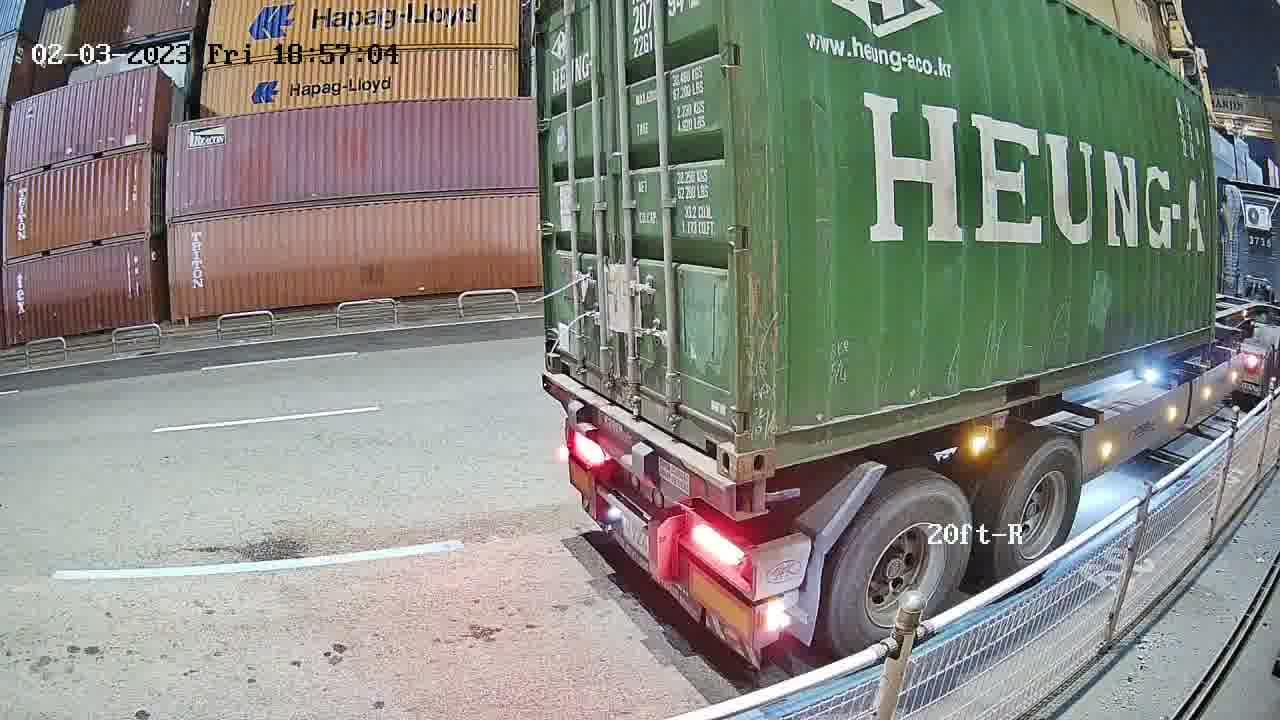Chassis: (544, 373, 770, 519)
Cone: (734, 478, 770, 520)
Hole_L: (737, 401, 801, 484), (546, 332, 578, 381)
Hole_R: (692, 387, 740, 480)
Tire: (834, 478, 970, 653), (997, 440, 1083, 589)
